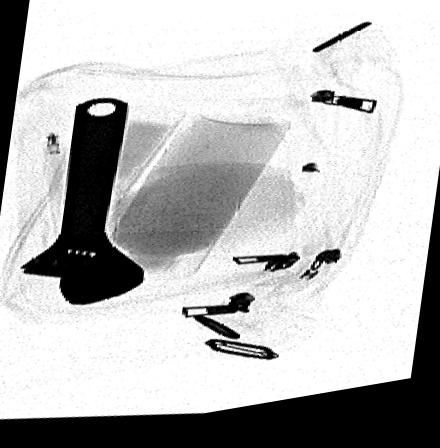Wrench: (15, 99, 143, 309)
